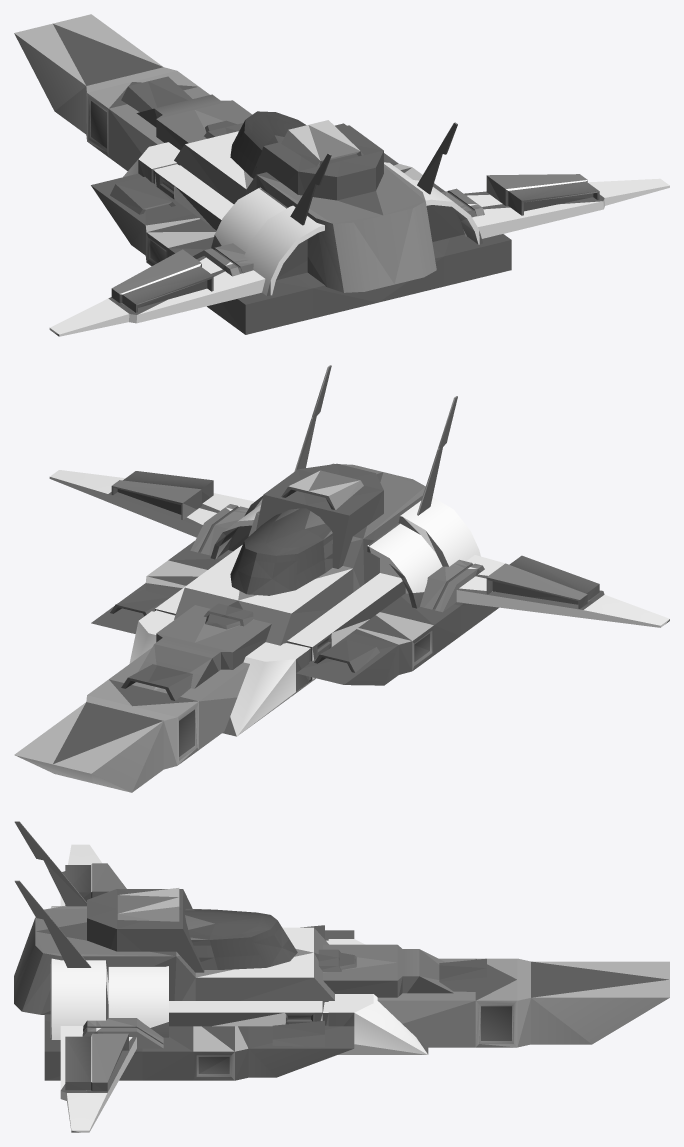
File: cyan_gunship.glb
3 views of the same model, one above another, from view 1: azimuth 30°, elevation 25°; view 2: azimuth 150°, elevation 25°; view 3: azimuth 270°, elevation 25° (orthographic). The views are drawn at different scales.
Visible parts, largest first — view 1: Body; view 2: Body; view 3: Body.
Boxes of the visible parts, x1=… form: Body: x1=14, y1=14, x2=669, y2=336; Body: x1=14, y1=365, x2=669, y2=792; Body: x1=14, y1=821, x2=669, y2=1132.
Bounding box in the file's own units: 14 × 4.03 × 13.57.
Materials: 2 (1 with a texture image).
